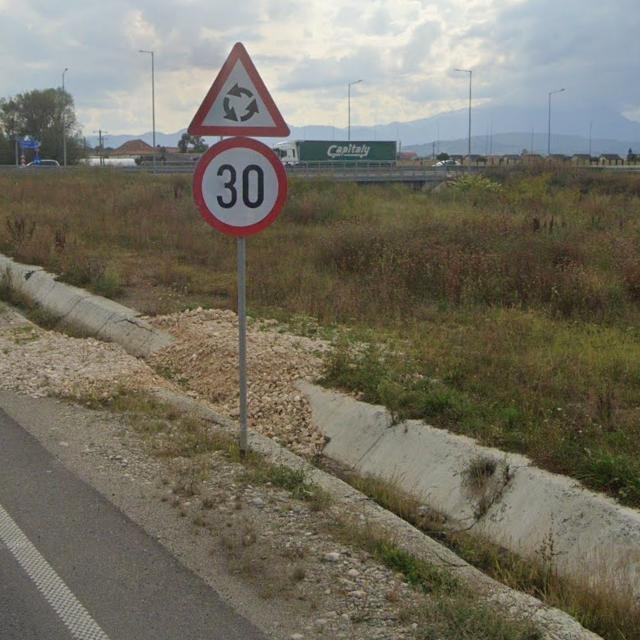forb_speed_over_30: (193, 134, 289, 238)
